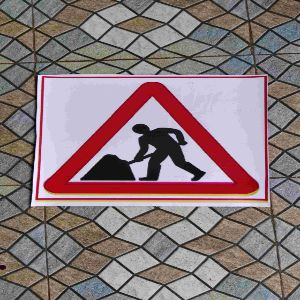men at work: (36, 76, 266, 203)
